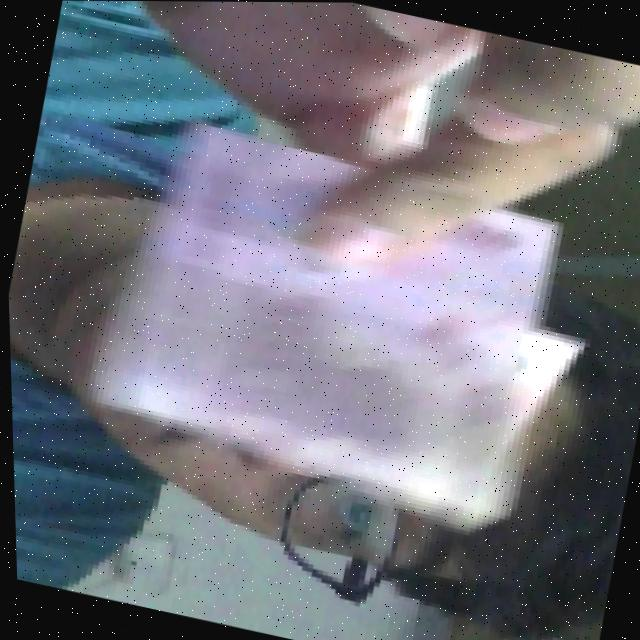50 000 VND: (61, 100, 605, 542)
